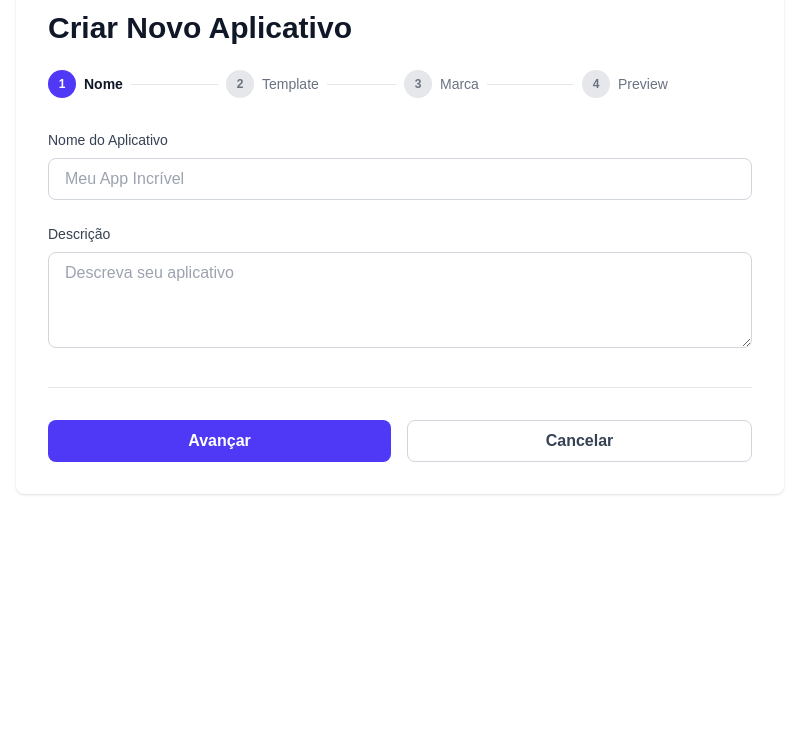
Scenario: NewAppPage template preview › shows the hovered template preview and switches when hovering another
In the field with placeholder "Meu App Incrível": (400, 179) [48,158,752,200], type "Minha Loja"
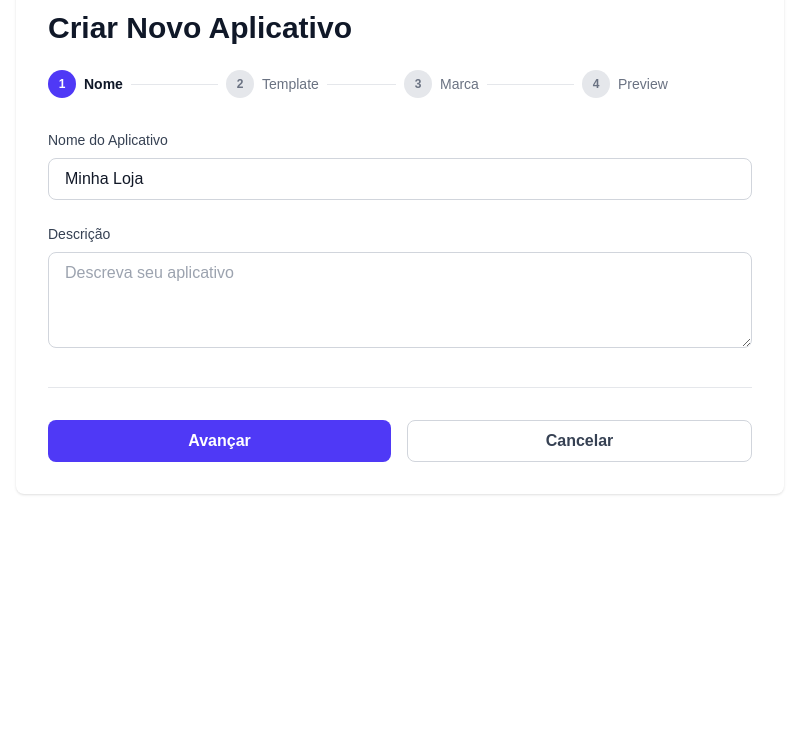
Click the button "Avançar": (220, 441) [48,420,391,462]
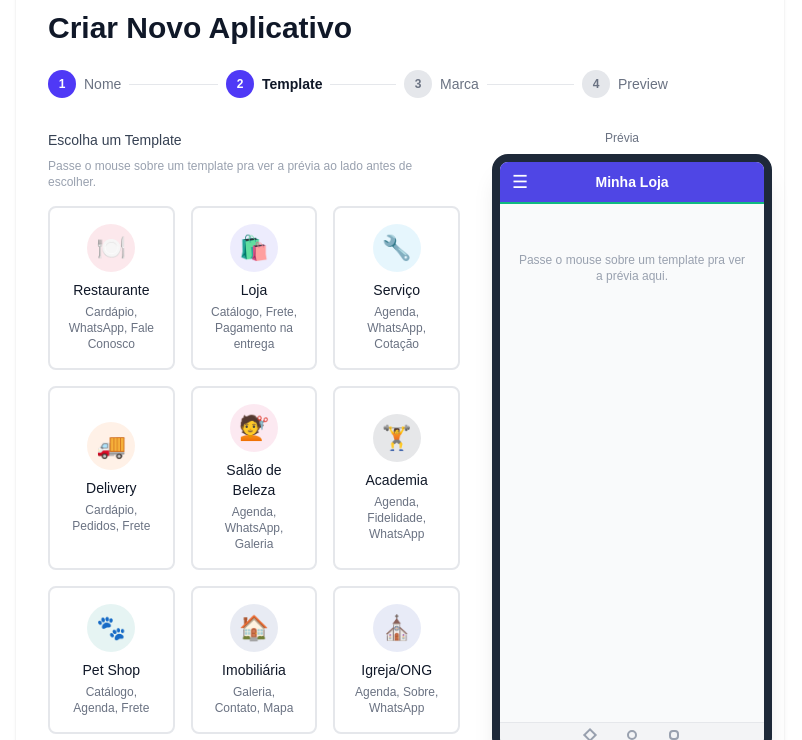
Check: the text "Escolha um Template" is shown, box [48,132,182,148]
Hover over the button "🍽️ Restaurante Cardápio, WhatsApp, Fale Conosco": (111, 288) [48,206,175,370]
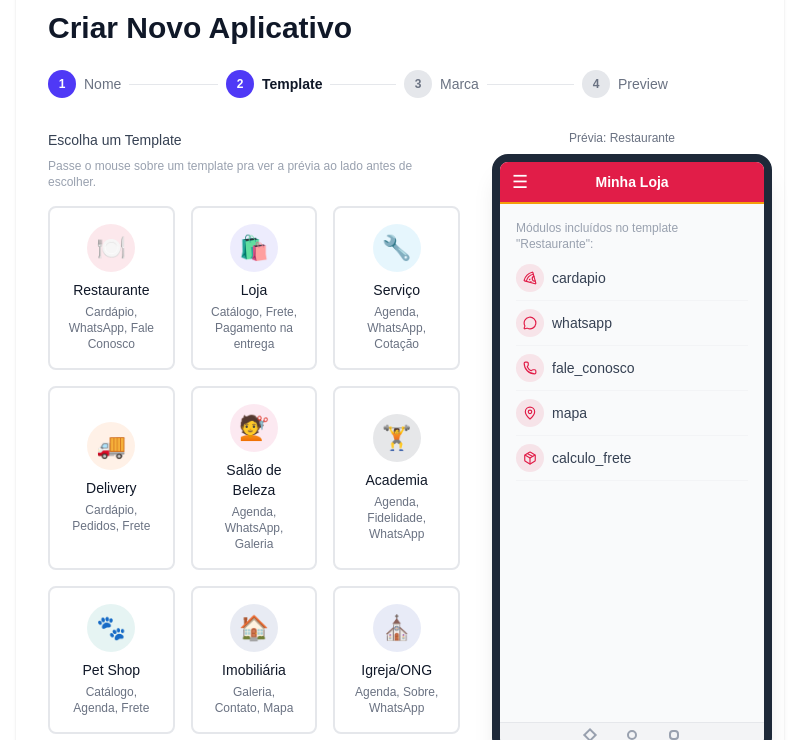
Check: the text "Prévia: Restaurante" is shown, box [569,131,675,145]
Check: the text "Módulos incluídos no template \"Restaurante\":" is shown, box [516,221,678,251]
Hover over the button "🛍️ Loja Catálogo, Frete, Pagamento na entrega": (254, 288) [191,206,317,370]
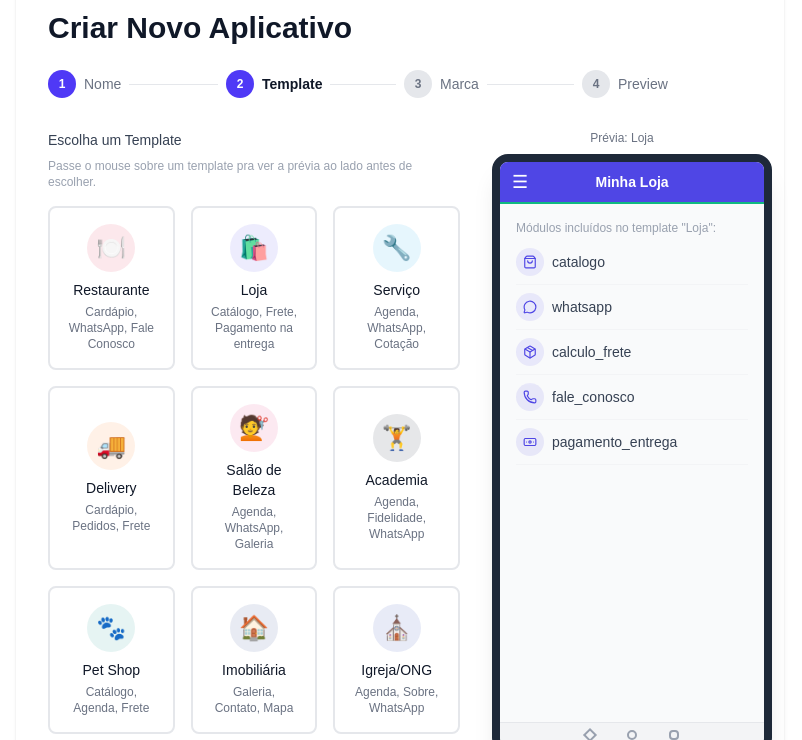
Check: the text "Prévia: Loja" is shown, box [590,131,654,145]
